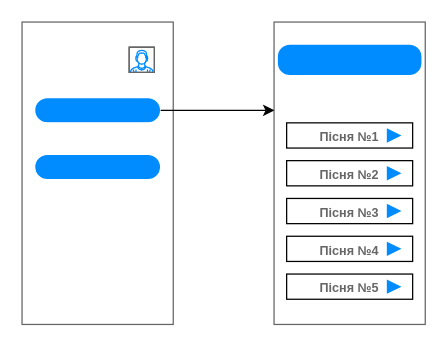
Image size: 447x347. Some labels were removed from this diagram. Each missing label, with the box of its shape:
Вибрати пісню: (33, 96, 161, 123)
Записи пісень: (33, 153, 161, 180)
Рекомендовані пісні: (276, 43, 422, 76)
